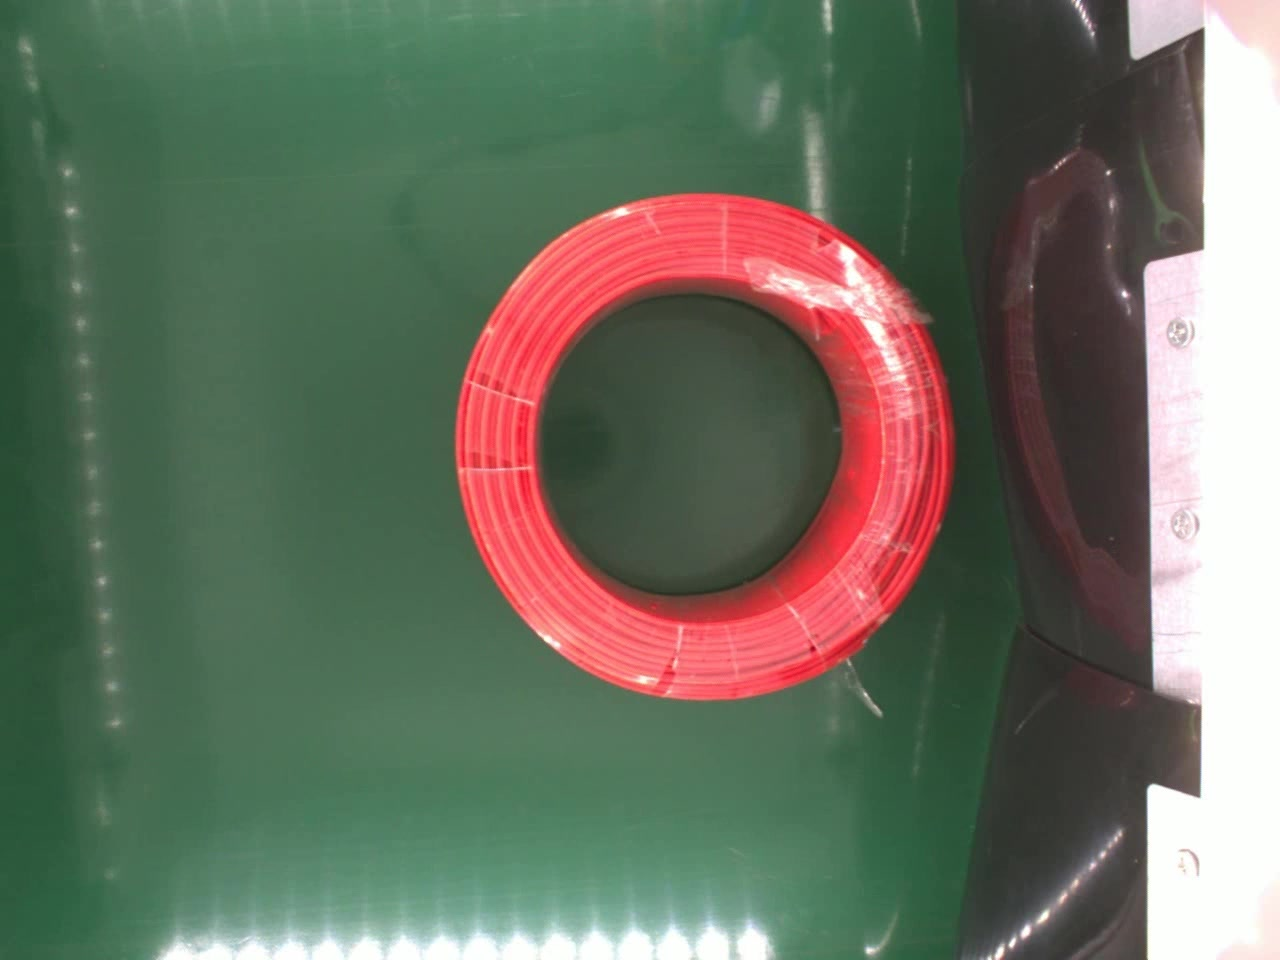red: (449, 186, 953, 702)
